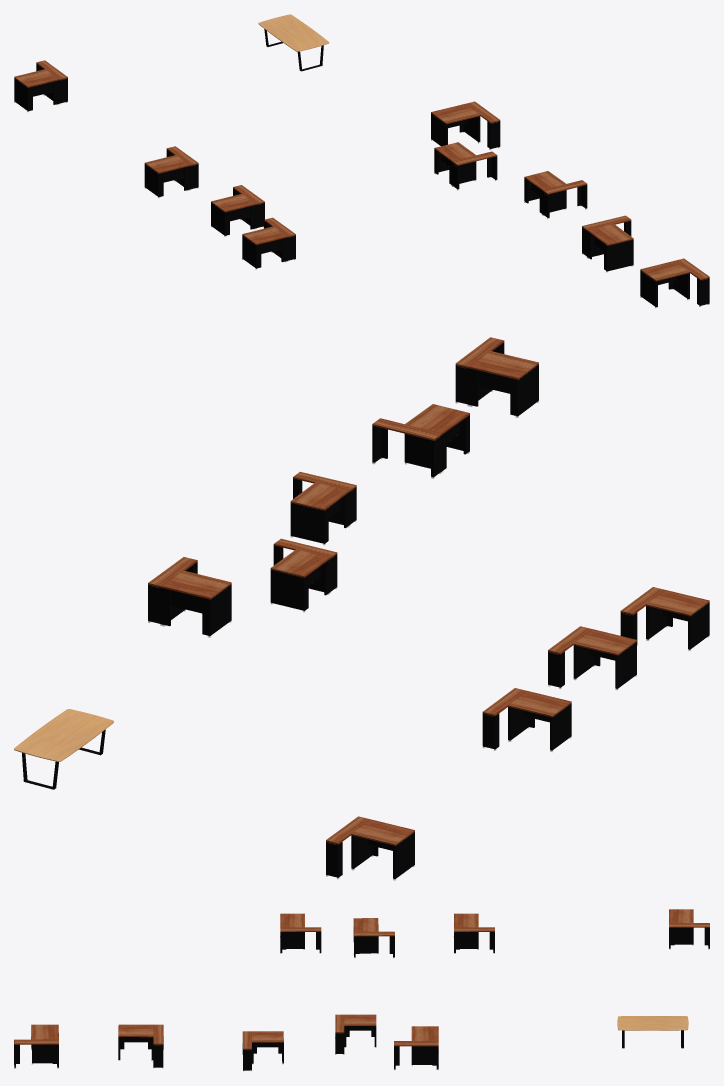
Rendered from escritorios_p3.glb.
3 views of the same model, one above another, from view 1: azimuth 30°, elevation 25°; view 2: azimuth 150°, elevation 25°; view 3: azimuth 270°, elevation 25° (orthographic). The views are drawn at different scales.
Parts seen in each view (by area): view 1: a_mesa.299, a_mesa.298, a_mesa.296, a_mesa.307, a_mesa.309, a_mesa.293, a_mesa.300, a_mesa.294, a_mesa.308, Object001_Material #1_0.002; view 2: a_mesa.296, a_mesa.298, a_mesa.299, a_mesa.293, a_mesa.300, a_mesa.307, a_mesa.308, a_mesa.294, a_mesa.309, Object001_Material #1_0.002; view 3: a_mesa.298, a_mesa.296, a_mesa.299, Object001_Material #1_0.002, a_mesa.308, a_mesa.309, a_mesa.307, a_mesa.294, a_mesa.293, a_mesa.300.
Boxes of the visible parts, x1,y1,x2,y2 form: a_mesa.299: (582,215,633,272); a_mesa.298: (640,258,709,308); a_mesa.296: (431,101,500,150); a_mesa.307: (144,146,198,198); a_mesa.309: (242,217,295,269); a_mesa.293: (434,142,497,190); a_mesa.300: (524,171,587,218); a_mesa.294: (14,60,67,112); a_mesa.308: (211,185,264,236); Object001_Material #1_0.002: (258,14,329,71); a_mesa.296: (148,557,231,637); a_mesa.298: (455,337,538,417); a_mesa.299: (372,404,470,478); a_mesa.293: (270,538,337,612); a_mesa.300: (290,471,356,545); a_mesa.307: (482,688,571,752); a_mesa.308: (548,626,636,690); a_mesa.294: (326,816,414,880); a_mesa.309: (620,587,709,651); Object001_Material #1_0.002: (14,709,113,789); a_mesa.298: (14,1024,59,1068); a_mesa.296: (393,1026,438,1070); a_mesa.299: (118,1024,163,1068); Object001_Material #1_0.002: (617,1016,688,1048); a_mesa.308: (353,918,394,958); a_mesa.309: (280,913,321,953); a_mesa.307: (453,913,494,953); a_mesa.294: (669,909,709,949); a_mesa.293: (335,1014,376,1054); a_mesa.300: (242,1031,283,1071).
Size of the model in its own units: 55.23 by 4.62 by 117.
2 materials, 2 textured.
